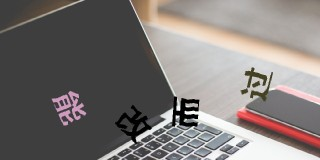改: (114, 104, 151, 144)
而: (172, 95, 200, 127)
能: (51, 91, 86, 126)
过: (240, 67, 273, 101)
